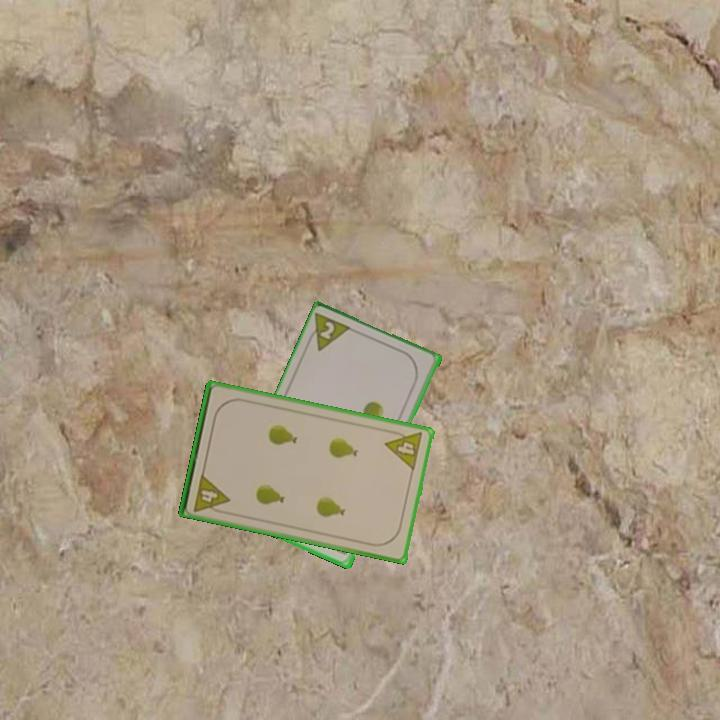2p: (303, 310, 356, 355)
4p: (382, 426, 426, 473), (190, 470, 232, 517)
